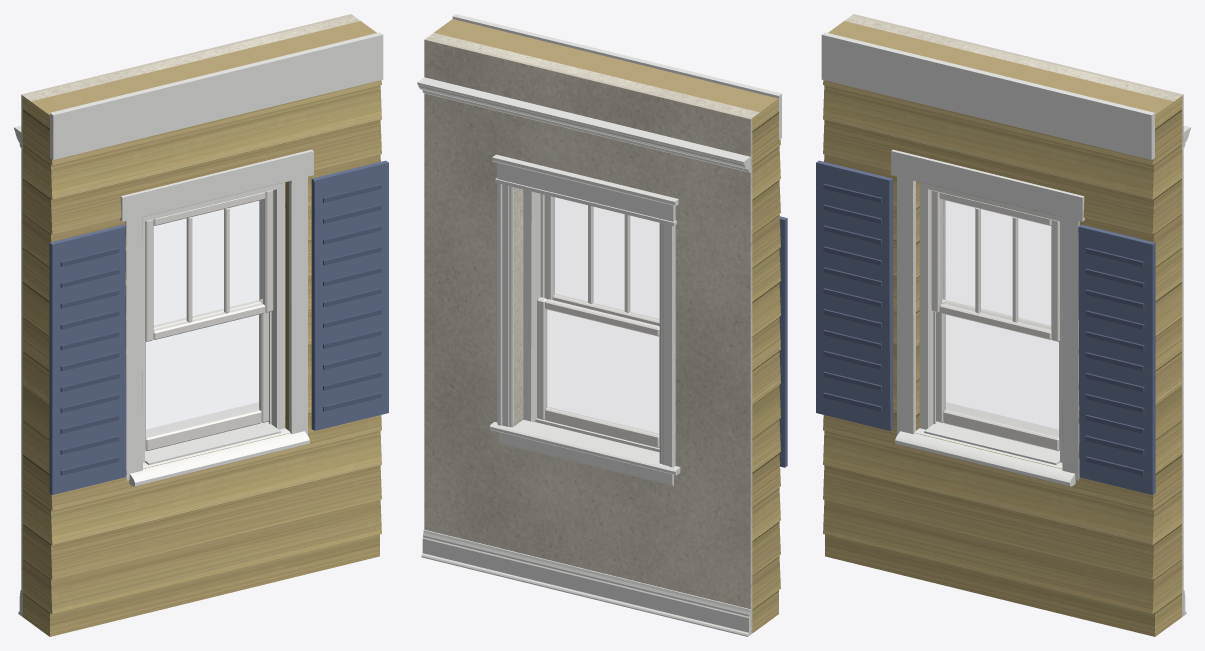
File: wall_siding_upper_window.glb
The picture shows the model from 3 angles, left to right: view 1: azimuth 30°, elevation 25°; view 2: azimuth 150°, elevation 25°; view 3: azimuth 330°, elevation 25°; orthographic projection.
Visible parts, largest first — view 1: wall_siding_upper_window_siding, wall_siding_upper_window_trim, wall_siding_upper_window_shutter, folha_glass, wall_siding_upper_window_glass, wall_siding_upper_window_shutter_dark, wall_siding_upper_window_sash, wall_siding_upper_window_frame, wall_siding_upper_window_plaster, folha_sash, molduras; view 2: wall_siding_upper_window_plaster, molduras, wall_siding_upper_window_siding, folha_glass, wall_siding_upper_window_glass, wall_siding_upper_window_frame, folha_sash, wall_siding_upper_window_sash, wall_siding_upper_window_trim, wall_siding_upper_window_shutter; view 3: wall_siding_upper_window_siding, wall_siding_upper_window_trim, wall_siding_upper_window_shutter, folha_glass, wall_siding_upper_window_glass, wall_siding_upper_window_shutter_dark, wall_siding_upper_window_sash, wall_siding_upper_window_frame, wall_siding_upper_window_plaster, folha_sash, molduras.
Boxes of the visible parts, x1,y1,x2,y2 form: wall_siding_upper_window_siding: (23, 21, 381, 636); wall_siding_upper_window_trim: (50, 32, 383, 486); wall_siding_upper_window_shutter: (49, 160, 388, 494); folha_glass: (146, 315, 259, 436); wall_siding_upper_window_glass: (154, 200, 263, 329); wall_siding_upper_window_shutter_dark: (60, 184, 381, 475); wall_siding_upper_window_sash: (145, 190, 273, 341); wall_siding_upper_window_frame: (142, 182, 285, 462); wall_siding_upper_window_plaster: (21, 14, 360, 616); folha_sash: (145, 299, 268, 450); molduras: (14, 125, 260, 615); wall_siding_upper_window_plaster: (424, 33, 759, 634); molduras: (417, 77, 750, 636); wall_siding_upper_window_siding: (434, 19, 780, 633); folha_glass: (546, 310, 658, 433); wall_siding_upper_window_glass: (554, 198, 658, 319); wall_siding_upper_window_frame: (523, 189, 659, 452); folha_sash: (537, 297, 659, 447); wall_siding_upper_window_sash: (544, 195, 659, 325); wall_siding_upper_window_trim: (452, 14, 781, 452); wall_siding_upper_window_shutter: (779, 216, 787, 467); wall_siding_upper_window_siding: (823, 21, 1181, 636); wall_siding_upper_window_trim: (821, 32, 1154, 486); wall_siding_upper_window_shutter: (816, 160, 1155, 494); folha_glass: (945, 315, 1058, 436); wall_siding_upper_window_glass: (941, 200, 1050, 329); wall_siding_upper_window_shutter_dark: (823, 184, 1144, 475); wall_siding_upper_window_sash: (931, 190, 1059, 341); wall_siding_upper_window_frame: (919, 182, 1062, 462); wall_siding_upper_window_plaster: (844, 14, 1183, 616); folha_sash: (936, 299, 1059, 450); molduras: (944, 125, 1190, 615).
Size of the model in its own units: 2.04 by 3.04 by 0.455.
8 materials, 2 textured.
